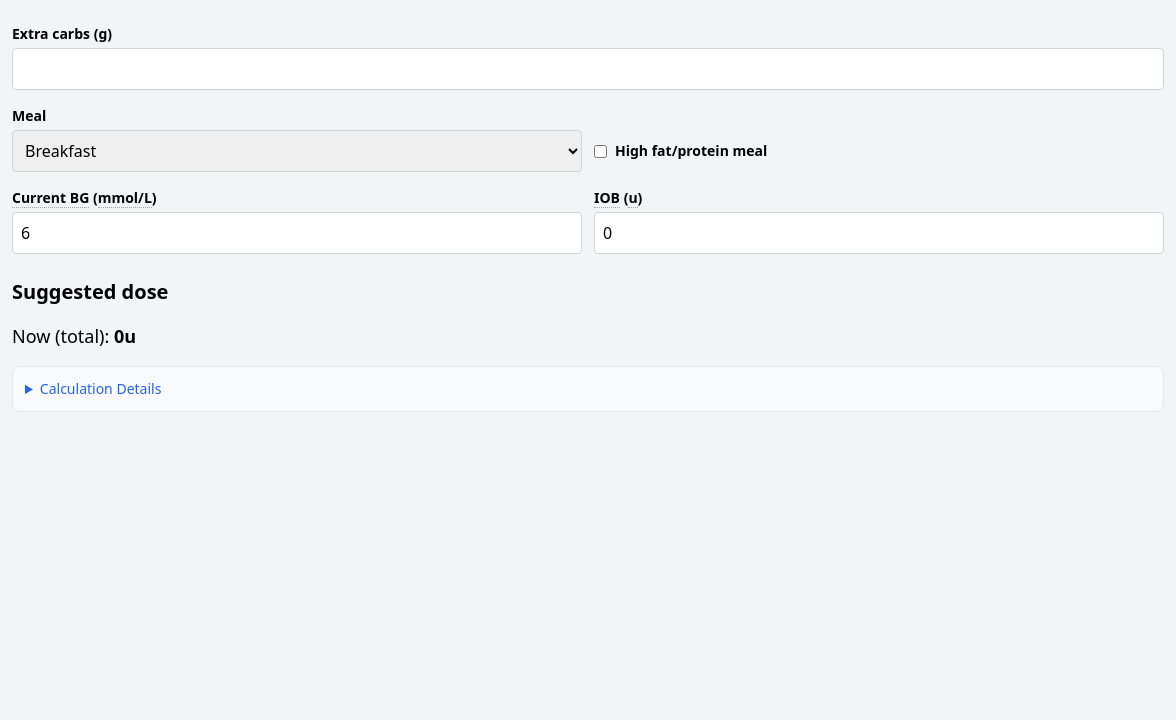
it: DoseRecommendation › shows injection plan for high fat/protein meals with delayed doses
# Add some carbs and enable high fat/protein (which can trigger delayed doses)
Type "50" into the number field labelled "Extra carbs (g)" at (588, 69), box [12,48,1164,90]
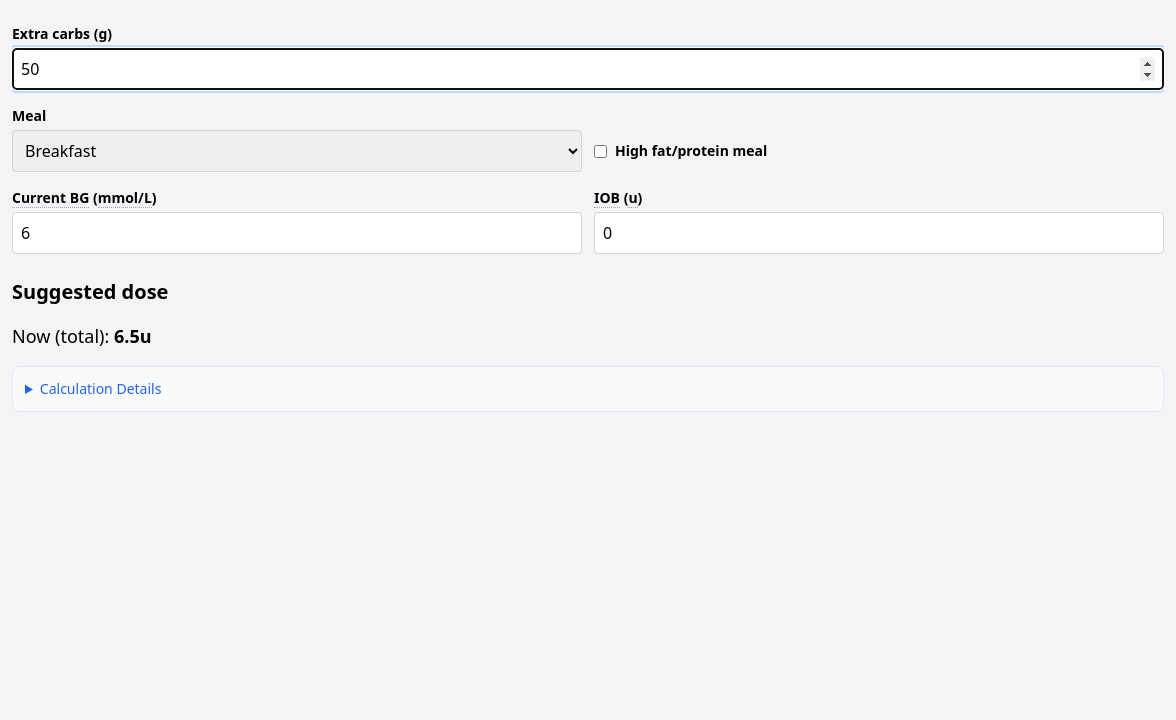
Click the checkbox labelled "High fat/protein meal" at (600, 151), box [594,144,607,158]
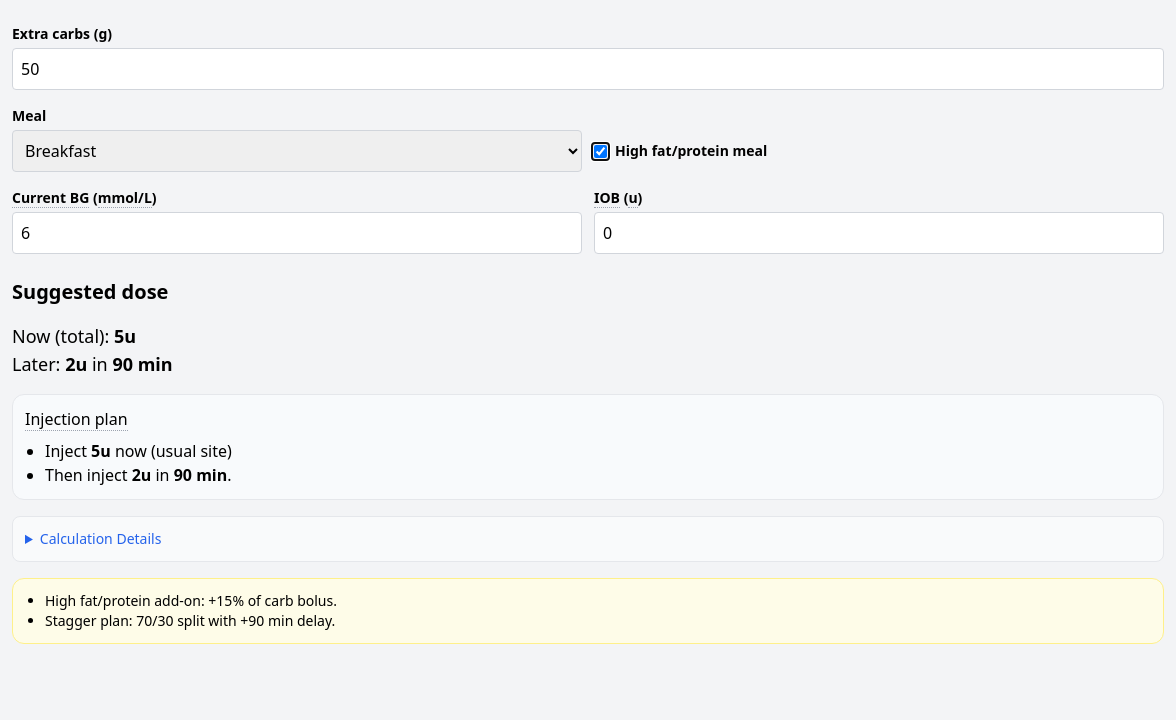
Check: the text "Injection plan" is shown, box [25,408,128,431]
